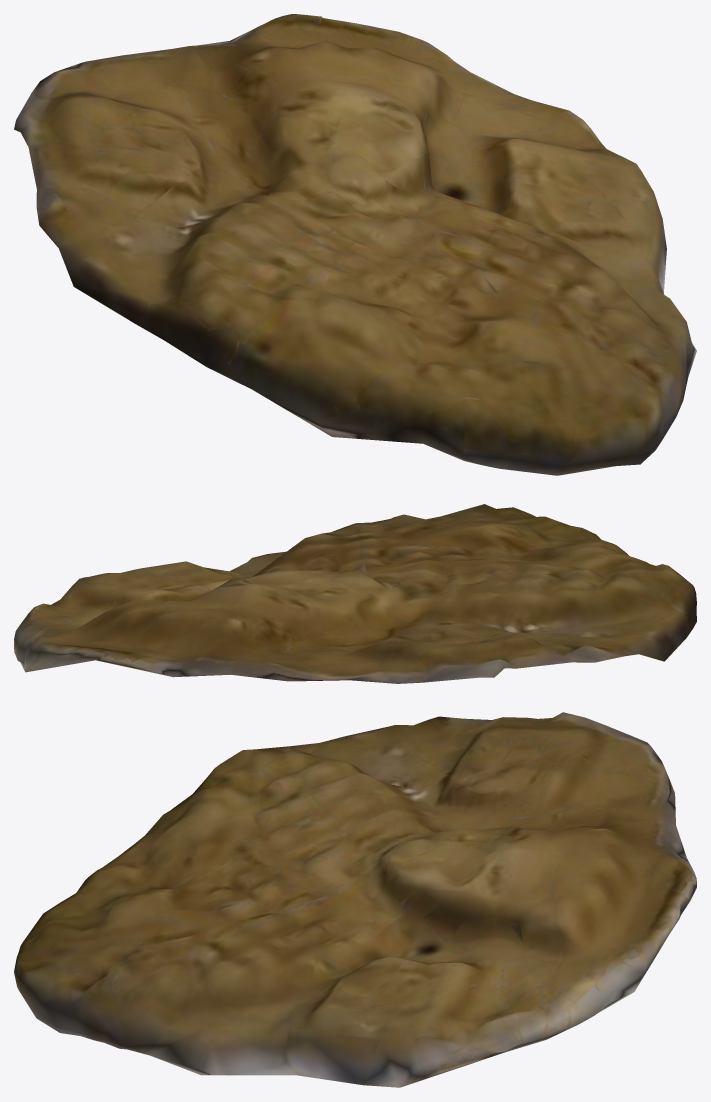
File: hall.glb
3 views of the same model, one above another, from view 1: azimuth 30°, elevation 25°; view 2: azimuth 150°, elevation 25°; view 3: azimuth 270°, elevation 25° (orthographic). The views are drawn at different scales.
Size of the model in its own units: 0.4618 by 0.1497 by 0.514.
1 material, 1 textured.
